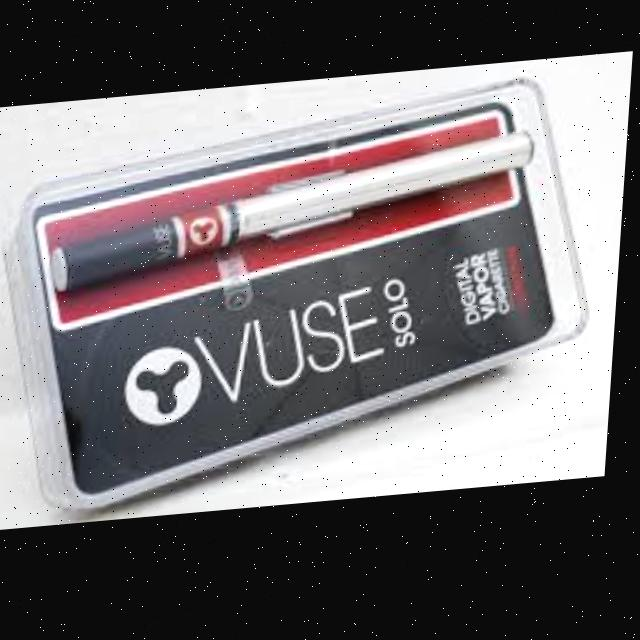vape: (53, 138, 537, 292)
